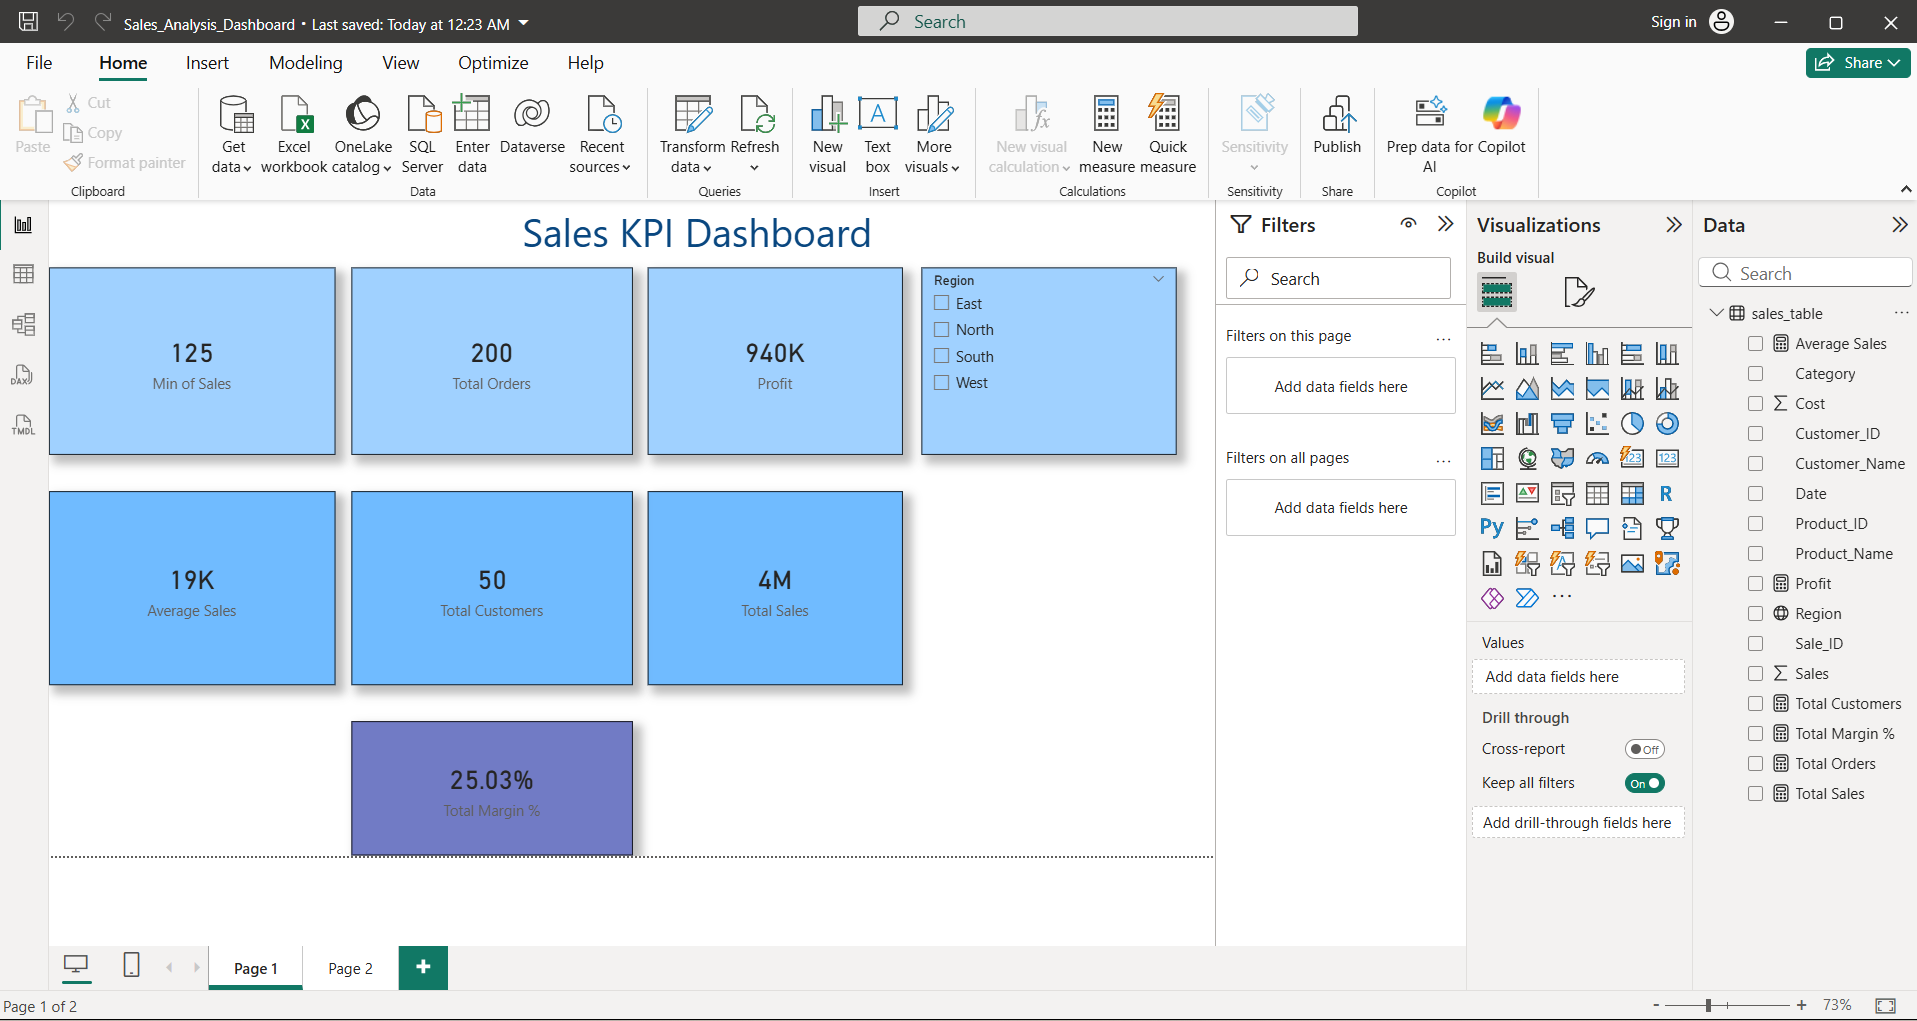

The dashboard page shown, as its layout file describes it:
{"tool":"powerbi","page":{"name":"Page 1","canvas":[1280,720],"ordinal":0},"visuals":[{"type":"card","fields":{"Values":["Min(sales_table.Sales)"]},"box":[0,74.3,314.3,205.7],"z":0},{"type":"card","fields":{"Values":["sales_table.Total Orders"]},"box":[331.4,74.3,308.6,205.7],"z":1},{"type":"card","fields":{"Values":["sales_table.Average Sales"]},"box":[0,320,314.3,212.9],"z":3},{"type":"card","fields":{"Values":["sales_table.Profit"]},"box":[657.1,74.3,280,205.7],"z":4},{"type":"card","fields":{"Values":["sales_table.Total Sales"]},"box":[657.1,320,280,212.9],"z":5},{"type":"card","fields":{"Values":["sales_table.Total Margin %"]},"box":[331.4,572.9,308.6,147.1],"z":6},{"type":"slicer","fields":{"Values":["sales_table.Region"]},"box":[957.1,74.3,280,205.7],"z":8},{"type":"textbox","box":[485.7,0,451.4,74.3],"z":9},{"type":"card","fields":{"Values":["sales_table.Total Customers"]},"box":[331.4,320,308.6,212.9],"z":10}]}

Visuals, with their boxes on the page's 1280x720 design canvas (x1, y1, x2, y2). These are canvas units, not pixel positions in the 1917x1021 screenshot, which may show the page scaled, cropped or inside an application window:
card - Min(sales_table.Sales): box=[0, 74, 314, 280]
card - sales_table.Total Orders: box=[331, 74, 640, 280]
card - sales_table.Average Sales: box=[0, 320, 314, 533]
card - sales_table.Profit: box=[657, 74, 937, 280]
card - sales_table.Total Sales: box=[657, 320, 937, 533]
card - sales_table.Total Margin %: box=[331, 573, 640, 720]
slicer - sales_table.Region: box=[957, 74, 1237, 280]
textbox: box=[486, 0, 937, 74]
card - sales_table.Total Customers: box=[331, 320, 640, 533]
